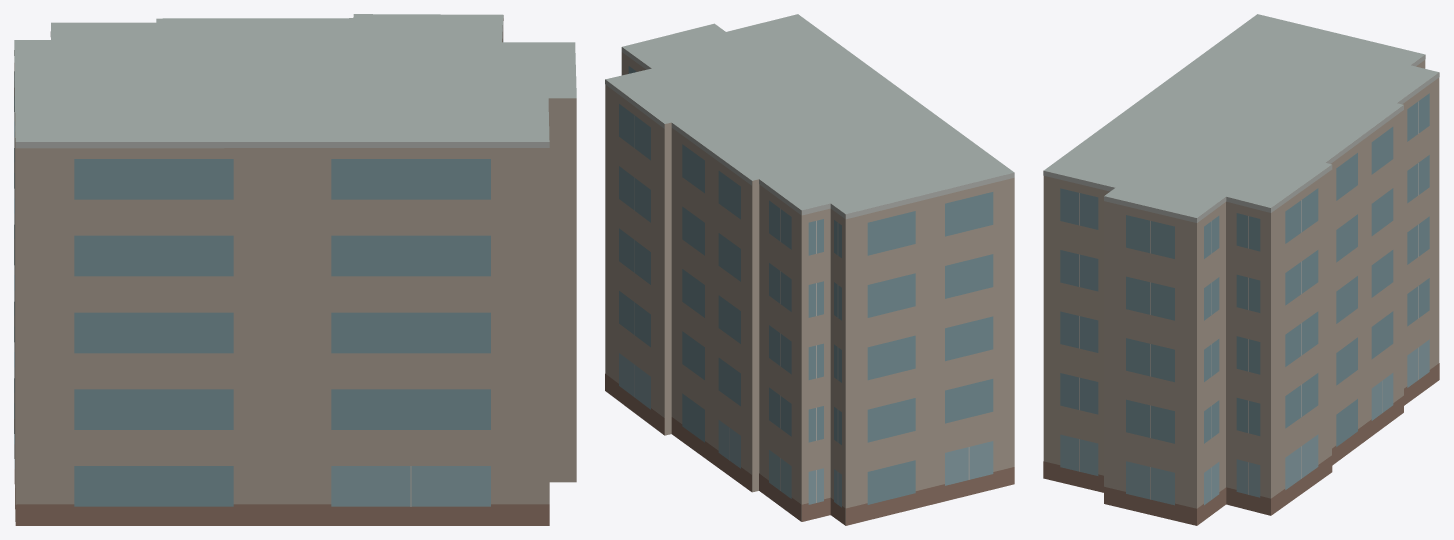
File: survey-upis-32607329.glb
3 views of the same model, side by side, from view 1: azimuth 30°, elevation 25°; view 2: azimuth 150°, elevation 25°; view 3: azimuth 270°, elevation 25° (orthographic). The views are drawn at different scales.
Visible parts, largest first — view 1: survey-upis-32607329.tmp; view 2: survey-upis-32607329.tmp; view 3: survey-upis-32607329.tmp.
Boxes of the visible parts, x1,y1,x2,y2 form: survey-upis-32607329.tmp: (14,14,576,525); survey-upis-32607329.tmp: (605,14,1014,525); survey-upis-32607329.tmp: (1043,14,1439,525).
Size of the model in its own units: 21.49 by 15.1 by 17.62.
